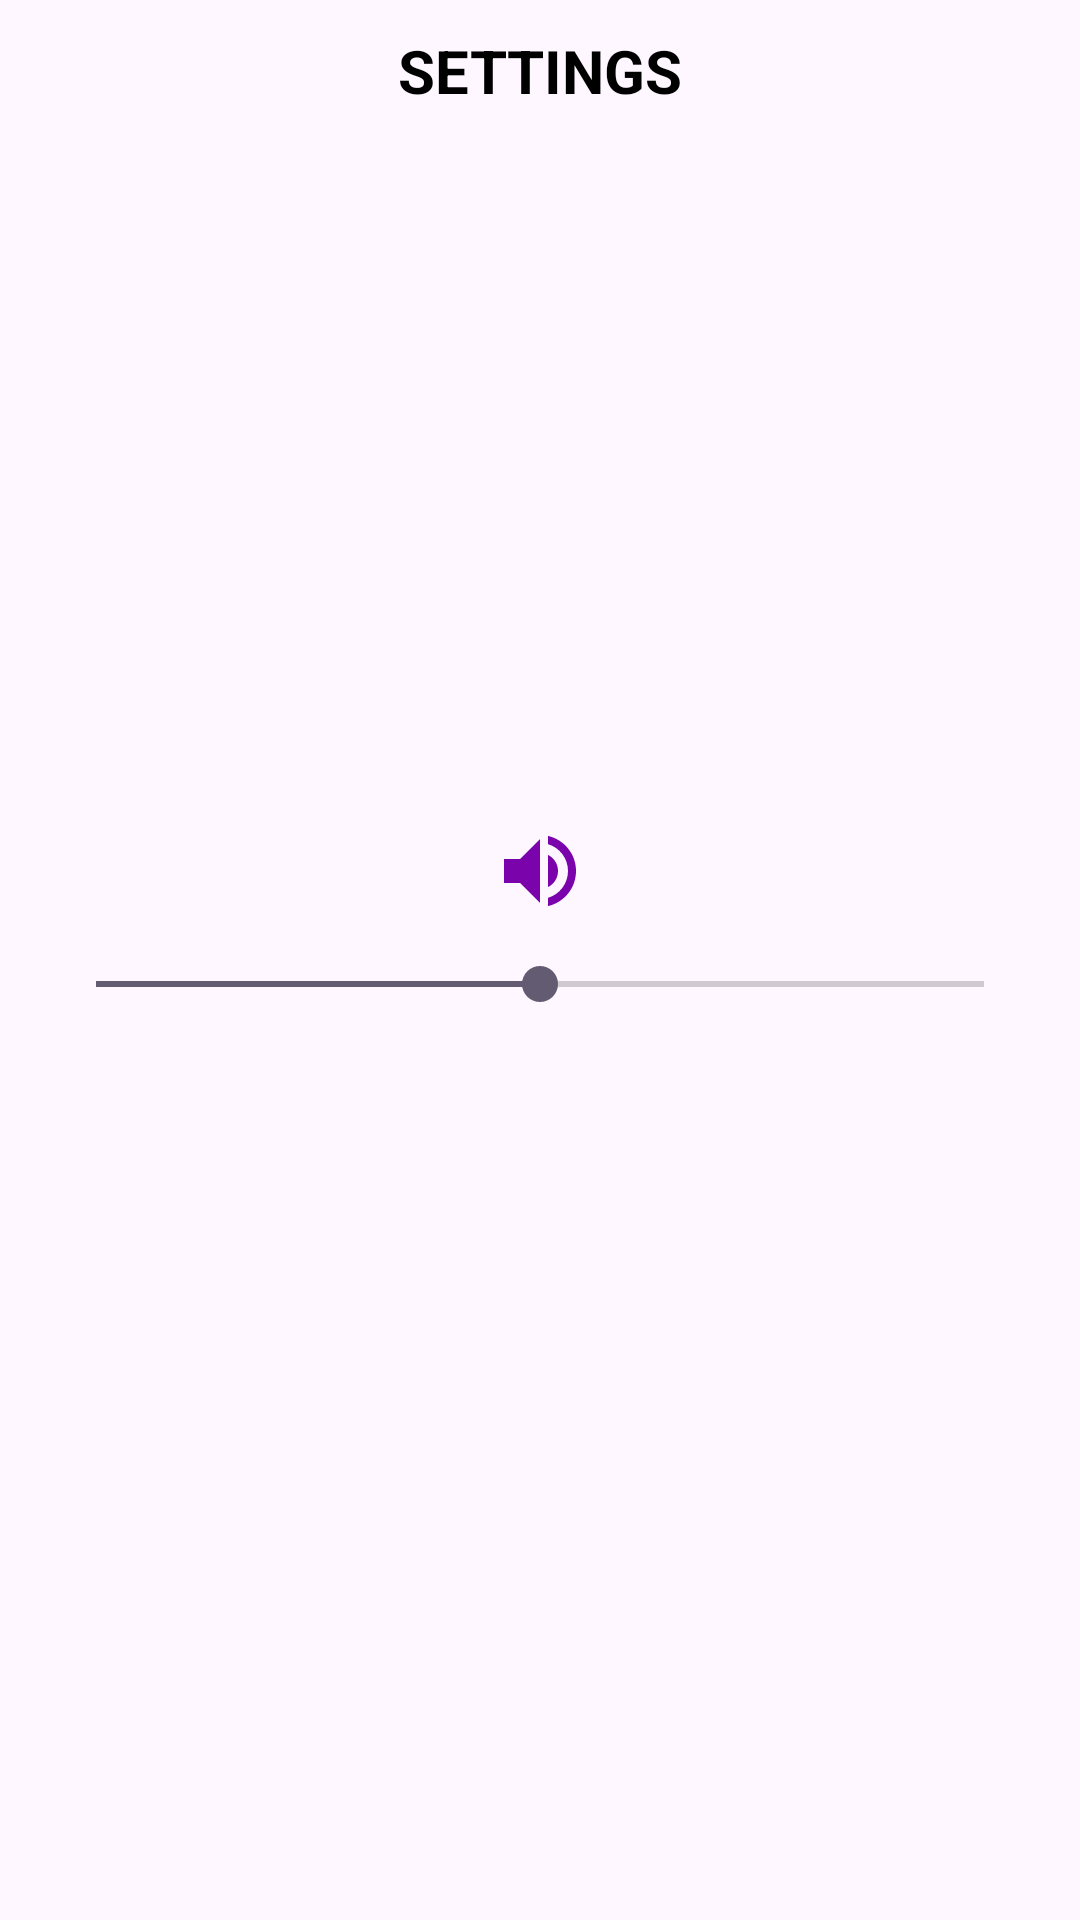

Named icons in this screenshot (1080px x 1920px) and their bounding boxes, (x1, y1, x2, y2):
volume up: (504, 836, 576, 906)
